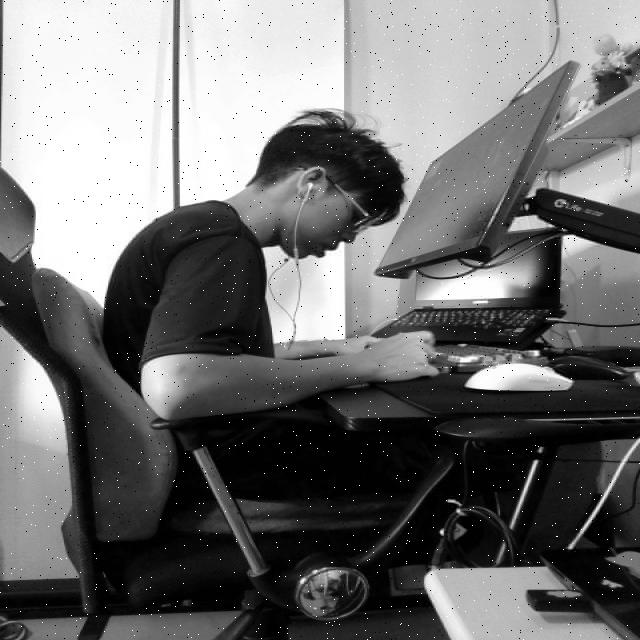Bad: (82, 98, 436, 512)
